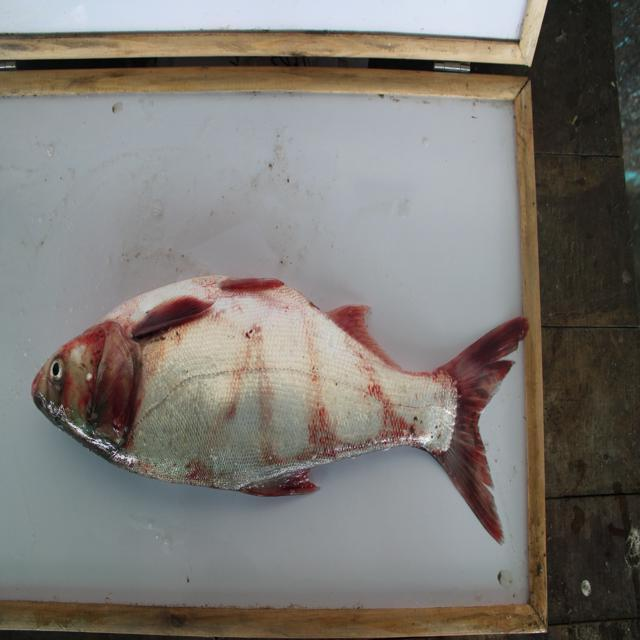SilverCarp: (34, 272, 521, 545)
